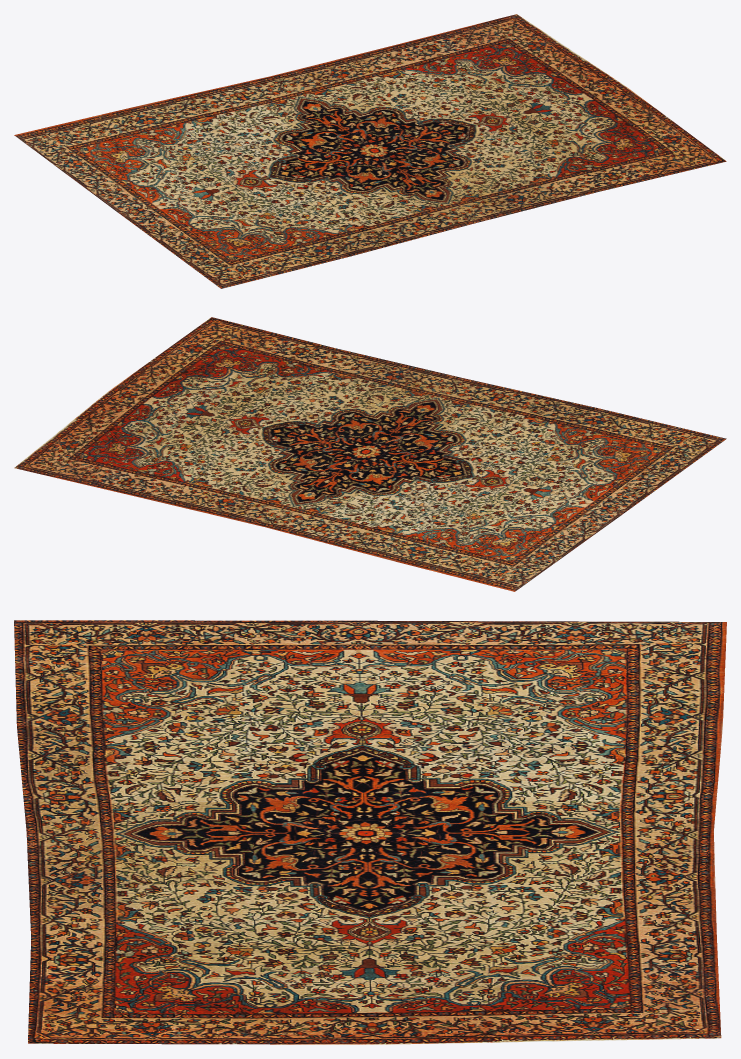
Rendered from Carpet.fbx.
3 views of the same model, one above another, from view 1: azimuth 30°, elevation 25°; view 2: azimuth 150°, elevation 25°; view 3: azimuth 270°, elevation 25° (orthographic). The views are drawn at different scales.
Visible parts, largest first — view 1: Plane; view 2: Plane; view 3: Plane.
Boxes of the visible parts, <box> form: Plane: <box>14,14,726,288</box>; Plane: <box>14,317,726,591</box>; Plane: <box>14,620,726,1044</box>.
Size of the model in its own units: 435 by 0.000205 by 309.
